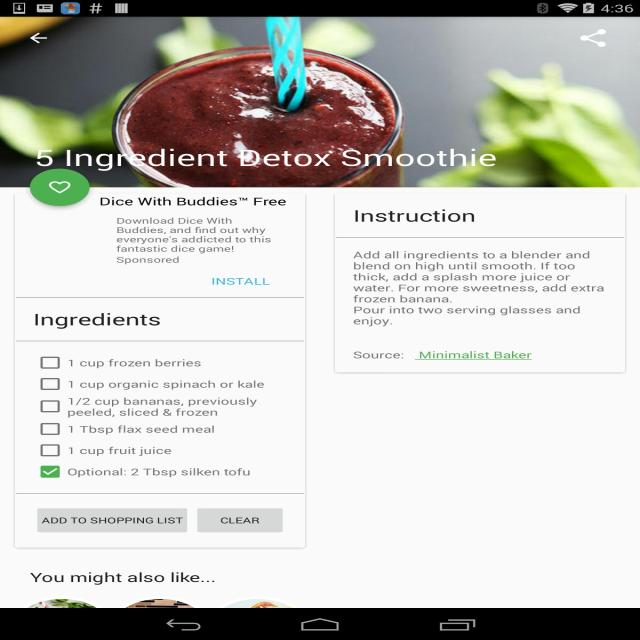button: (39, 508, 188, 532), (29, 171, 92, 208), (198, 508, 284, 532), (574, 26, 618, 54), (27, 31, 51, 47), (37, 398, 61, 414), (38, 463, 62, 478), (38, 377, 62, 391), (38, 355, 60, 370), (40, 442, 60, 458), (39, 422, 61, 436)
heading: (33, 145, 503, 169), (25, 570, 227, 585), (30, 310, 163, 332), (97, 196, 288, 211), (351, 207, 478, 227)
image: (2, 17, 640, 188)
label: (66, 397, 259, 418), (66, 466, 253, 478), (65, 379, 266, 389), (66, 424, 224, 436), (65, 357, 204, 369), (66, 444, 178, 457), (351, 350, 408, 361)
link: (416, 350, 540, 362), (207, 275, 274, 287)
text: (353, 251, 610, 329), (112, 216, 276, 268)
